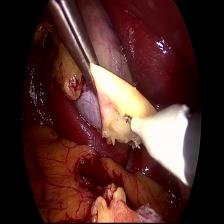Grasper: (44, 0, 111, 96)
Hook: (122, 100, 189, 174)
